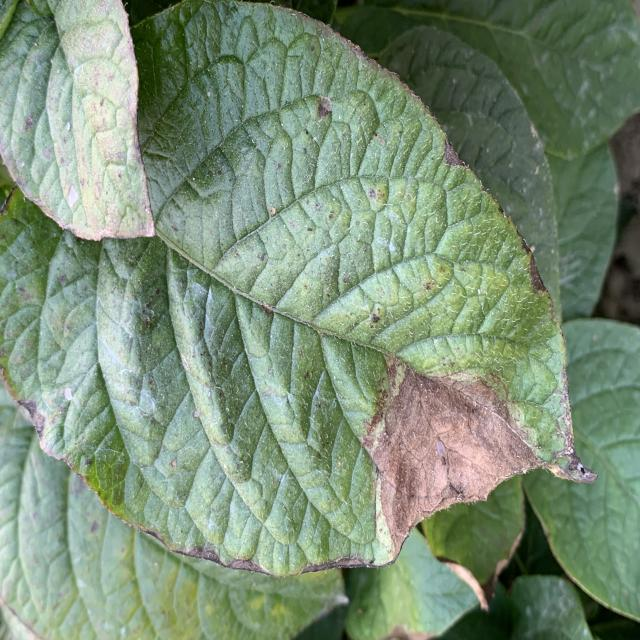lateblight: (362, 355, 541, 555), (548, 442, 596, 483)
